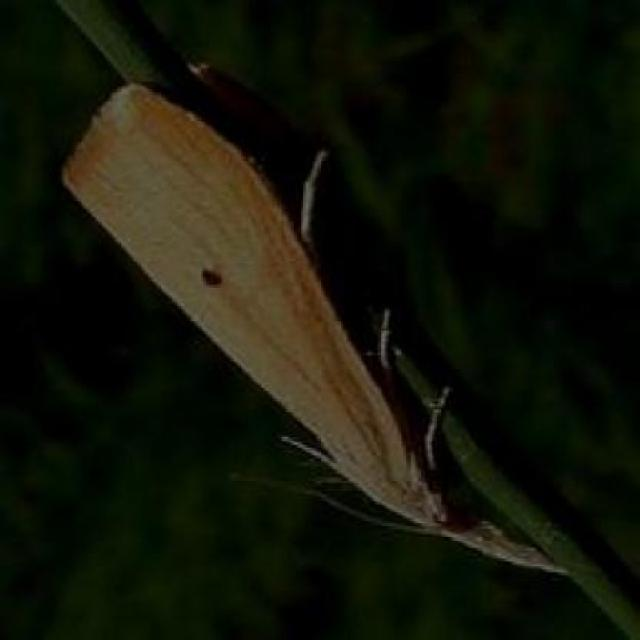stem-borer: (52, 59, 579, 582)
